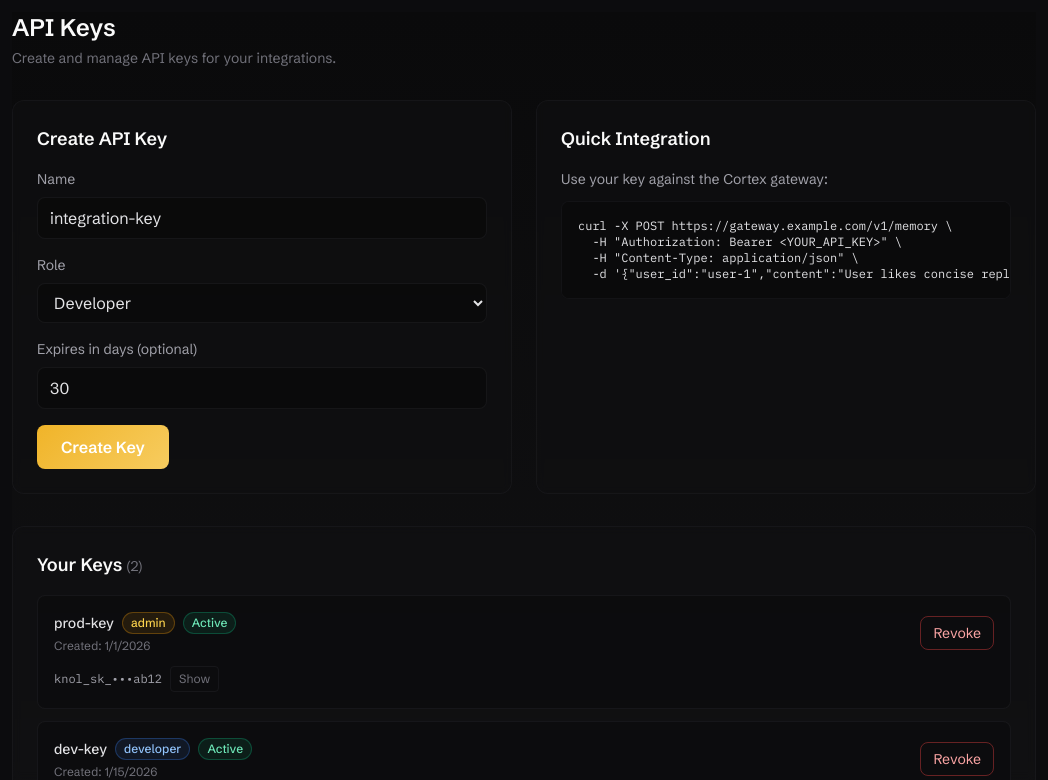
Test case: ApiKeysPage – per-key prefix show/hide › clicking Show reveals key_prefix
Expected: the text "prod-key" is shown, [54, 613, 114, 633]
Click the button "Show".
click(195, 679)  # box [170, 666, 219, 692]
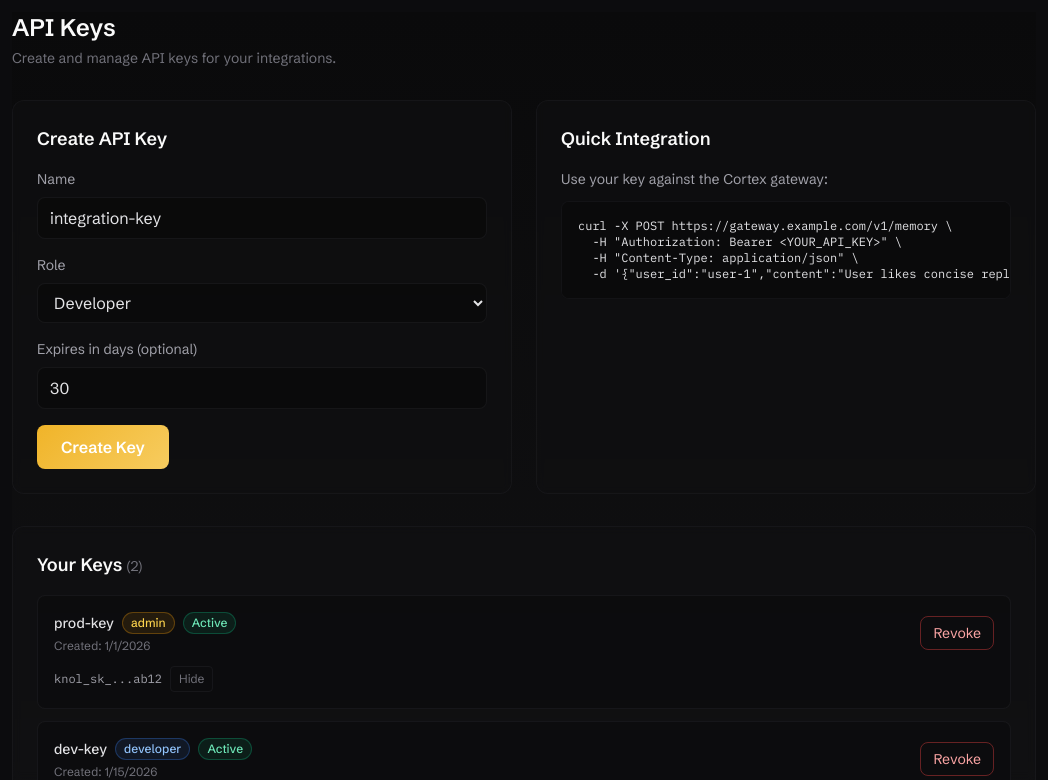
Expected: the text "knol_sk_...ab12" is shown, [54, 671, 162, 687]
Expected: the button "Hide" is shown, [170, 666, 214, 692]
